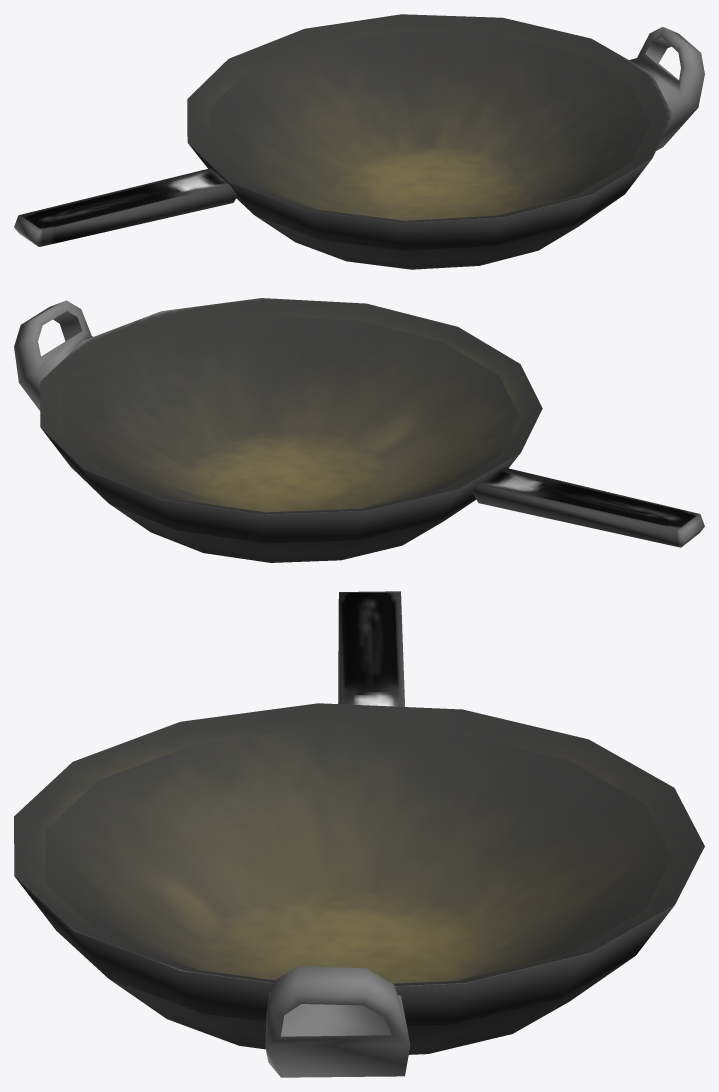
Rendered from Wokpan.fbx.
3 renders of one model, top to bottom at view 1: azimuth 30°, elevation 25°; view 2: azimuth 150°, elevation 25°; view 3: azimuth 270°, elevation 25°, orthographic. The views are drawn at different scales.
Parts seen in each view (by area): view 1: Wokpan; view 2: Wokpan; view 3: Wokpan.
Boxes of the visible parts, left/top/right/bottom form: Wokpan: left=14, top=14, right=704, bottom=269; Wokpan: left=14, top=298, right=704, bottom=562; Wokpan: left=14, top=591, right=704, bottom=1077.
Bounding box in the file's own units: 86.2 × 14.34 × 55.5.
